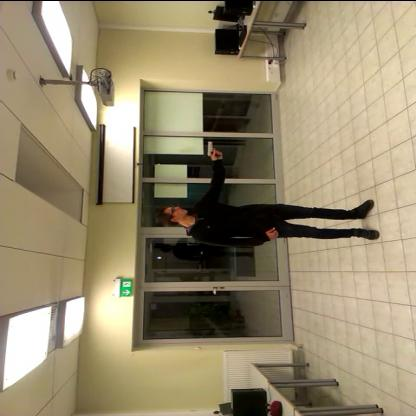Pistol: (202, 138, 230, 160)
